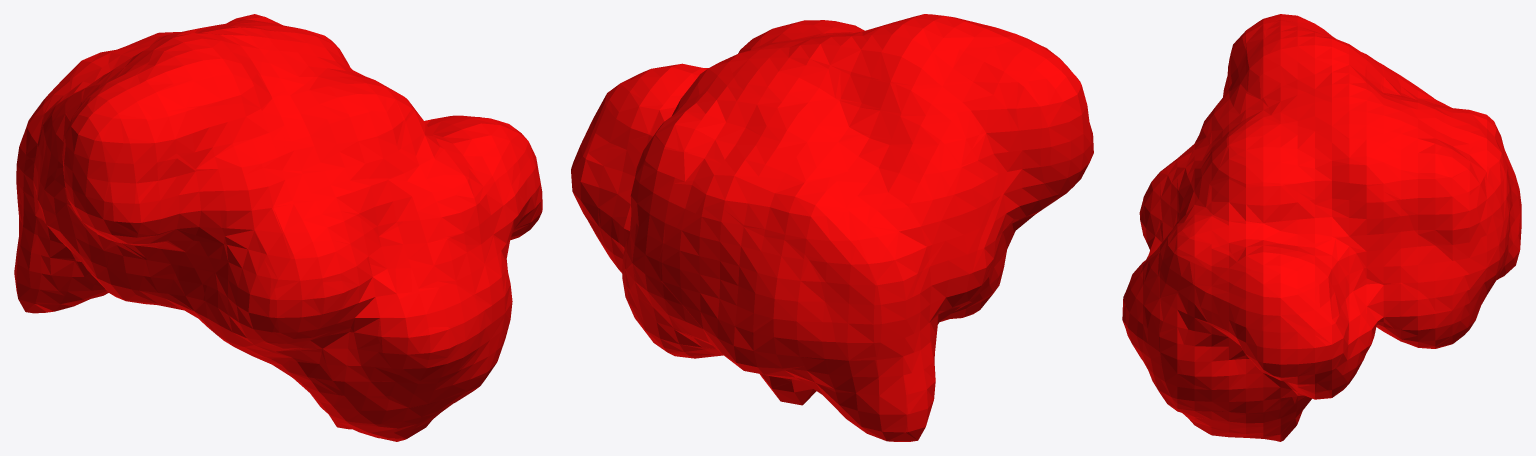
File: livF_coarse.dae
3 renders of one model, left to right at view 1: azimuth 30°, elevation 25°; view 2: azimuth 150°, elevation 25°; view 3: azimuth 270°, elevation 25°, orthographic. The views are drawn at different scales.
Parts seen in each view (by area): view 1: livF; view 2: livF; view 3: livF.
Boxes of the visible parts, x1,y1,x2,y2 form: livF: (14, 14, 542, 441); livF: (571, 14, 1093, 441); livF: (1122, 14, 1521, 441).
Size of the model in its own units: 57.38 by 47.68 by 50.41.
